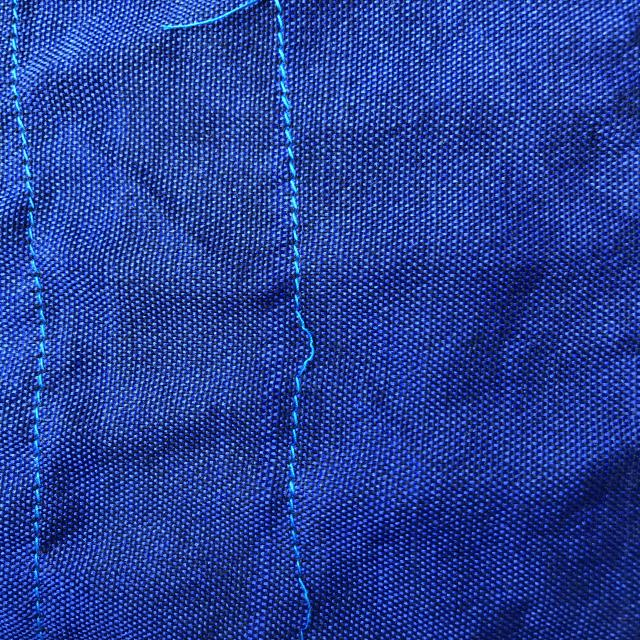skip: (273, 288, 330, 389), (273, 559, 331, 635)
